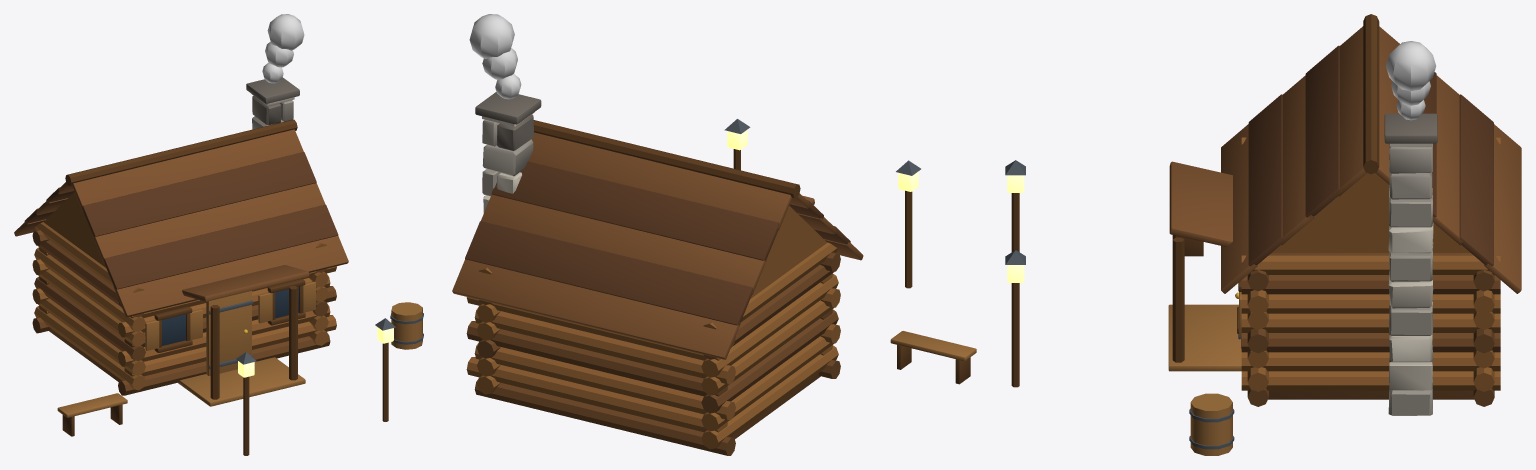
File: budynek_glowny_poz04.glb
3 renders of one model, left to right at view 1: azimuth 30°, elevation 25°; view 2: azimuth 150°, elevation 25°; view 3: azimuth 270°, elevation 25°, orthographic. The views are drawn at different scales.
Parts seen in each view (by area): view 1: budynek_glowny_poz04; view 2: budynek_glowny_poz04; view 3: budynek_glowny_poz04.
Part boxes in pixels (x1,y1,x2,y2): budynek_glowny_poz04: (14, 14, 423, 455); budynek_glowny_poz04: (452, 14, 976, 455); budynek_glowny_poz04: (1005, 14, 1521, 455).
Bounding box in the file's own units: 8.42 × 6.23 × 7.77.
